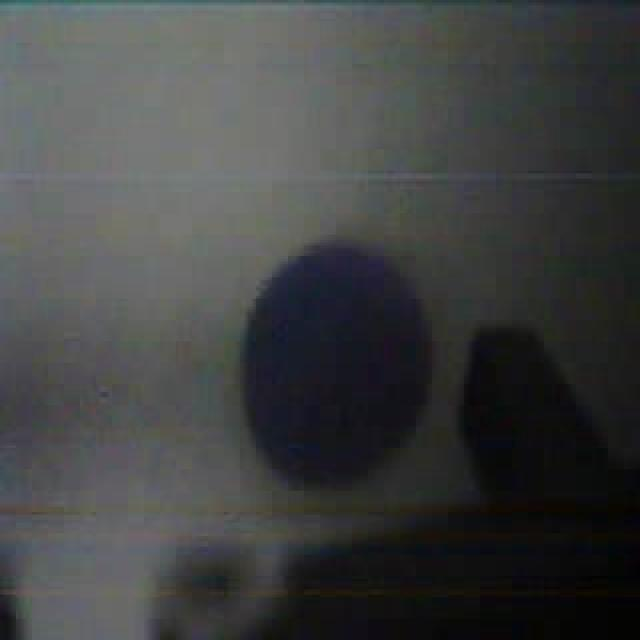blue_ball: (236, 235, 436, 485)
